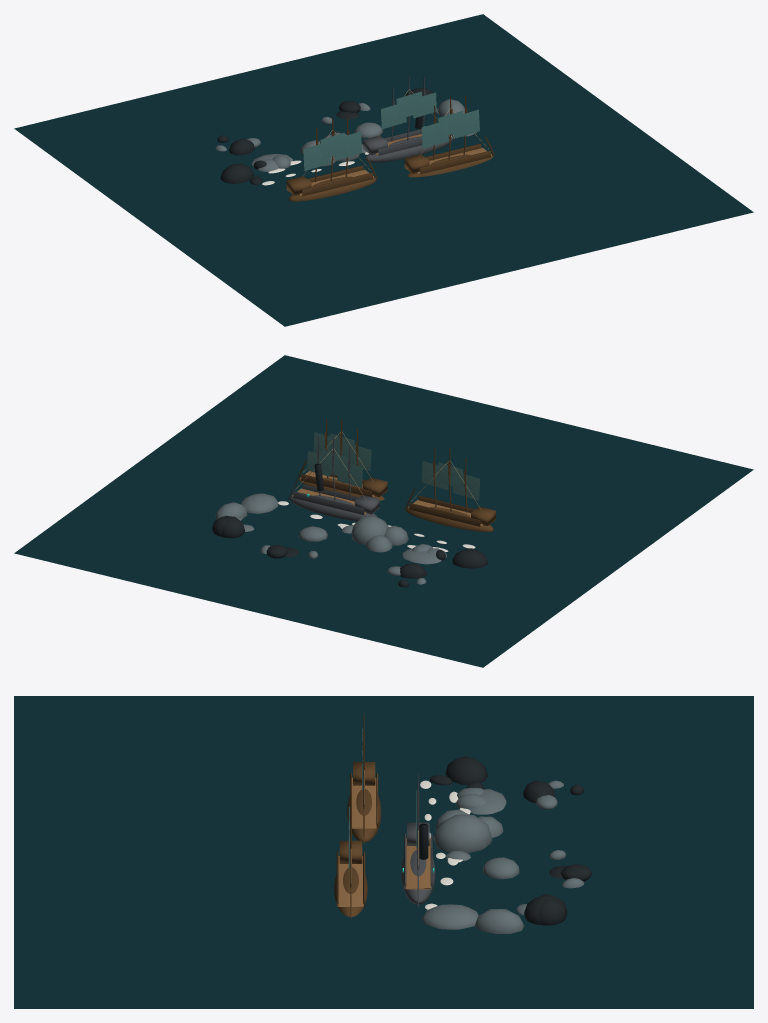
File: 3D模型 scene_shipwreck_bay.glb
3 renders of one model, top to bottom at view 1: azimuth 30°, elevation 25°; view 2: azimuth 150°, elevation 25°; view 3: azimuth 270°, elevation 25°, orthographic. The views are drawn at different scales.
Parts seen in each view (by area): view 1: sea_plane, C_hull, B_hull, C_sail1, A_sail2, A_bulwark, B_bulwark, rock_15, B_sail1; view 2: sea_plane, C_hull, rock_07, B_hull, rock_22, rock_15, B_bulwark.001, C_bulwark.001, C_sail1; view 3: sea_plane, rock_07, rock_22, rock_17, rock_15, B_deck, A_deck, C_hull, B_hull, C_deck, rock_20, A_hull (+2 smaller).
Boxes of the visible parts, left/top/right/bottom form: sea_plane: left=14, top=14, right=753, bottom=326; C_hull: left=365, top=136, right=452, bottom=162; B_hull: left=288, top=176, right=376, bottom=201; C_sail1: left=396, top=91, right=422, bottom=119; A_sail2: left=421, top=120, right=448, bottom=148; A_bulwark: left=419, top=150, right=490, bottom=174; B_bulwark: left=302, top=172, right=372, bottom=196; rock_15: left=220, top=163, right=253, bottom=183; B_sail1: left=320, top=132, right=345, bottom=159; sea_plane: left=14, top=355, right=753, bottom=667; C_hull: left=290, top=495, right=376, bottom=521; rock_07: left=351, top=515, right=388, bottom=544; B_hull: left=406, top=507, right=493, bottom=531; rock_22: left=241, top=493, right=278, bottom=513; rock_15: left=452, top=549, right=488, bottom=568; B_bulwark.001: left=409, top=503, right=480, bottom=526; C_bulwark.001: left=293, top=491, right=364, bottom=514; C_sail1: left=321, top=450, right=347, bottom=477; sea_plane: left=14, top=696, right=753, bottom=1008; rock_07: left=433, top=814, right=492, bottom=852; rock_22: left=422, top=904, right=478, bottom=929; rock_17: left=474, top=909, right=524, bottom=933; rock_15: left=445, top=756, right=487, bottom=784; B_deck: left=352, top=777, right=376, bottom=828; A_deck: left=338, top=856, right=363, bottom=906; C_hull: left=401, top=849, right=435, bottom=904; B_hull: left=347, top=789, right=381, bottom=841; C_deck: left=405, top=838, right=430, bottom=889; rock_20: left=483, top=857, right=519, bottom=879; A_hull: left=334, top=867, right=367, bottom=916.
Bounding box in the file's own units: 56 × 10.29 × 56.
